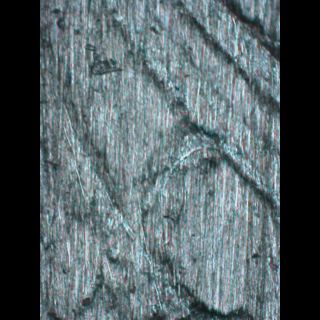d: (61, 103, 256, 319), (154, 1, 278, 222)
